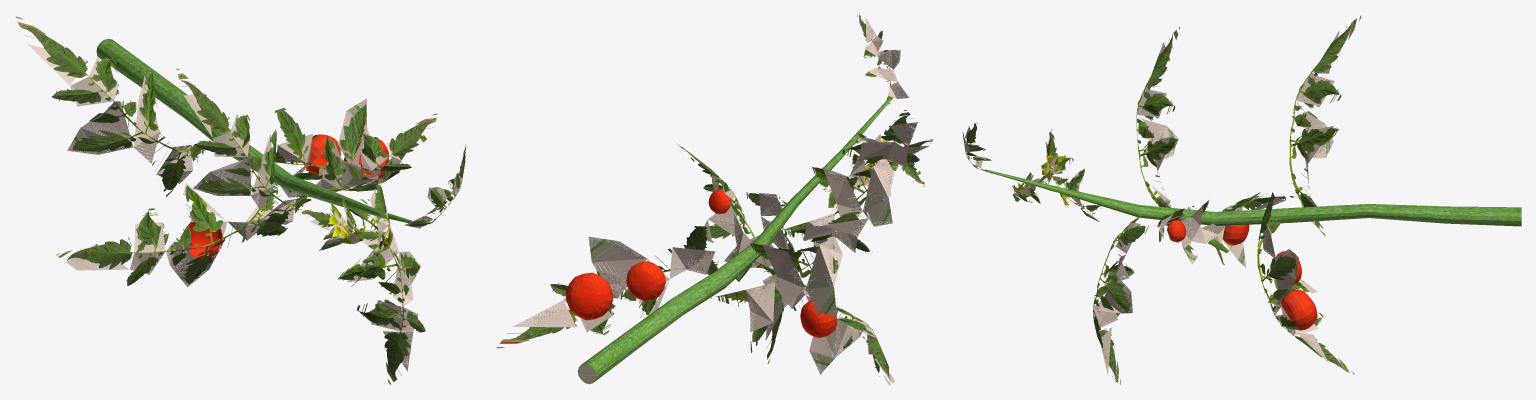
The model's file is tomato-plant.dae.
The picture shows the model from 3 angles, left to right: view 1: azimuth 30°, elevation 25°; view 2: azimuth 150°, elevation 25°; view 3: azimuth 270°, elevation 25°; orthographic projection. The views are drawn at different scales.
Visible parts, largest first — view 1: node; view 2: node; view 3: node.
Part boxes in pixels (bbox=[...]): node: bbox=[15, 16, 466, 384]; node: bbox=[496, 14, 933, 385]; node: bbox=[962, 15, 1521, 384].
Bounding box in the file's own units: 207556 × 176404 × 312100.
